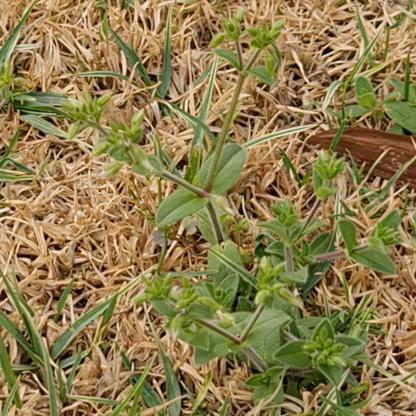Weeds: (60, 11, 400, 413), (341, 72, 415, 131)
